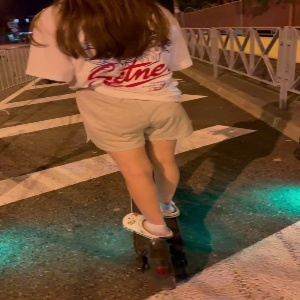human on a scooter: (23, 1, 198, 291)
